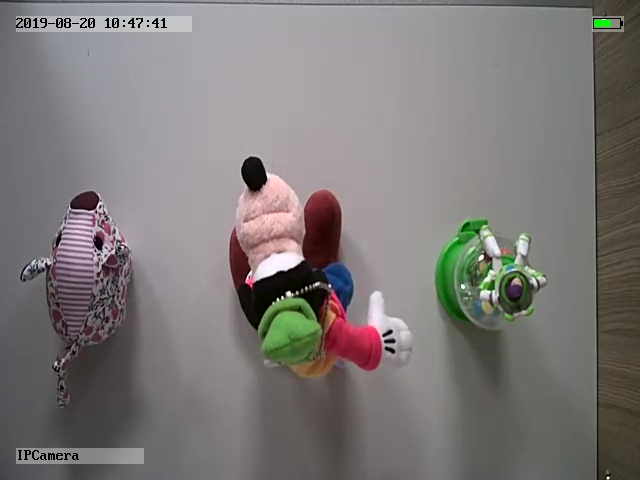buzz: (432, 217, 549, 333)
goofy: (228, 152, 418, 381)
pig: (19, 187, 132, 407)
